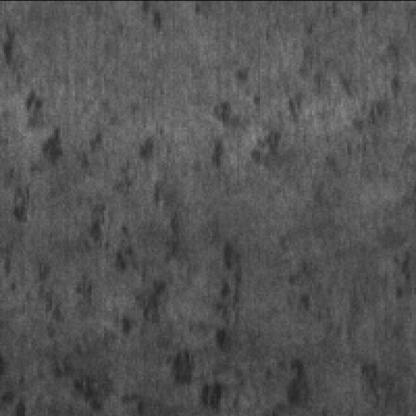rolled-in_scale: (61, 185, 250, 416), (0, 29, 158, 227), (196, 43, 408, 178)
